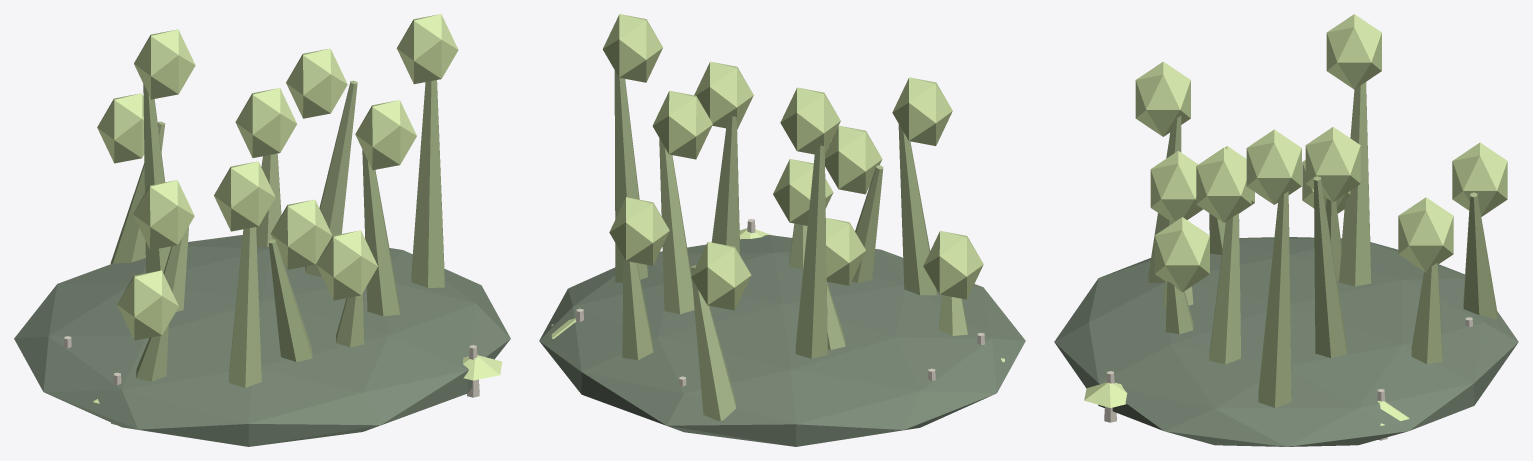
File: hunger_stalking_stalks.glb
3 views of the same model, side by side, from view 1: azimuth 30°, elevation 25°; view 2: azimuth 150°, elevation 25°; view 3: azimuth 270°, elevation 25° (orthographic). The views are drawn at different scales.
Parts seen in each view (by area): view 1: hunger_stalking_stalks_material_00, hunger_stalking_stalks_material_02, hunger_stalking_stalks_material_01, hunger_stalking_stalks_material_03; view 2: hunger_stalking_stalks_material_00, hunger_stalking_stalks_material_02, hunger_stalking_stalks_material_01, hunger_stalking_stalks_material_03; view 3: hunger_stalking_stalks_material_00, hunger_stalking_stalks_material_02, hunger_stalking_stalks_material_01, hunger_stalking_stalks_material_03.
Part boxes in pixels (x1,y1,x2,y2): hunger_stalking_stalks_material_00: (14,235,510,446); hunger_stalking_stalks_material_02: (93,14,502,403); hunger_stalking_stalks_material_01: (110,80,444,388); hunger_stalking_stalks_material_03: (63,336,479,424); hunger_stalking_stalks_material_00: (539,235,1025,446); hunger_stalking_stalks_material_02: (551,14,1004,361); hunger_stalking_stalks_material_01: (614,70,967,420); hunger_stalking_stalks_material_03: (576,218,984,386); hunger_stalking_stalks_material_00: (1054,237,1518,446); hunger_stalking_stalks_material_02: (1084,14,1507,425); hunger_stalking_stalks_material_01: (1148,82,1497,407); hunger_stalking_stalks_material_03: (1104,317,1472,440).
Bounding box in the file's own units: 1.84 × 1.34 × 1.72.
